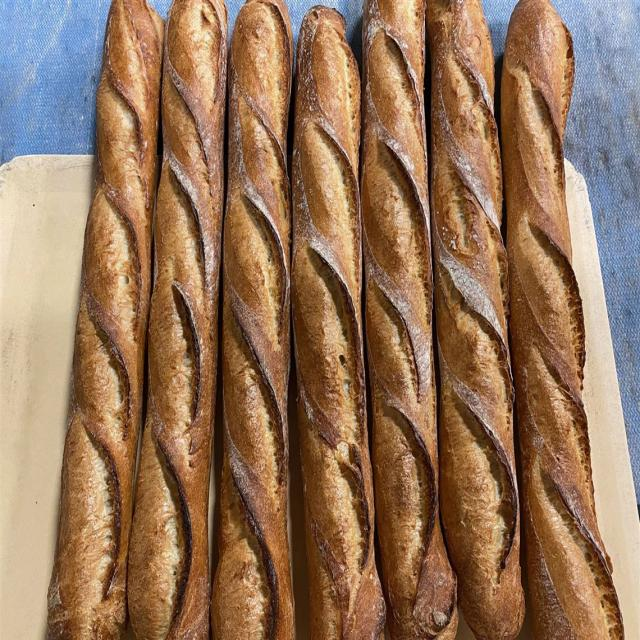Baguette: (500, 0, 622, 639), (47, 0, 164, 639), (426, 0, 524, 639), (129, 0, 227, 639), (361, 0, 457, 639), (291, 6, 385, 639), (212, 0, 294, 639)
